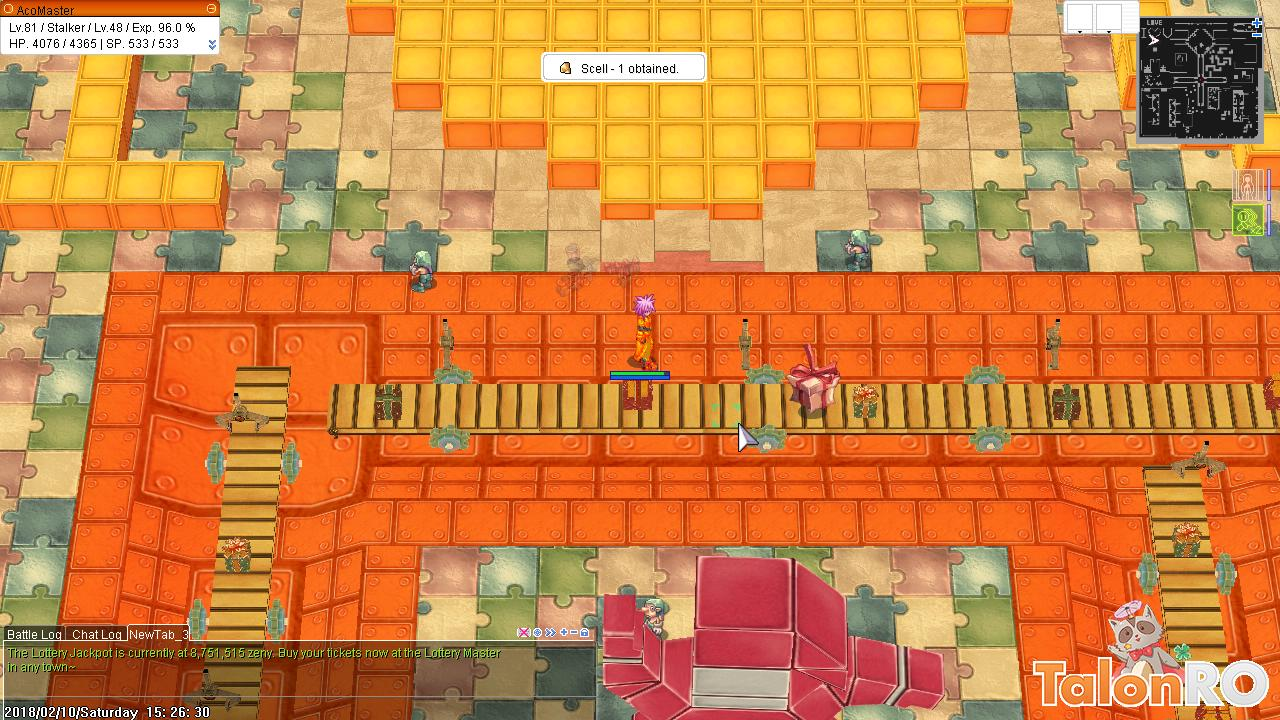myst_case: (781, 342, 844, 418)
